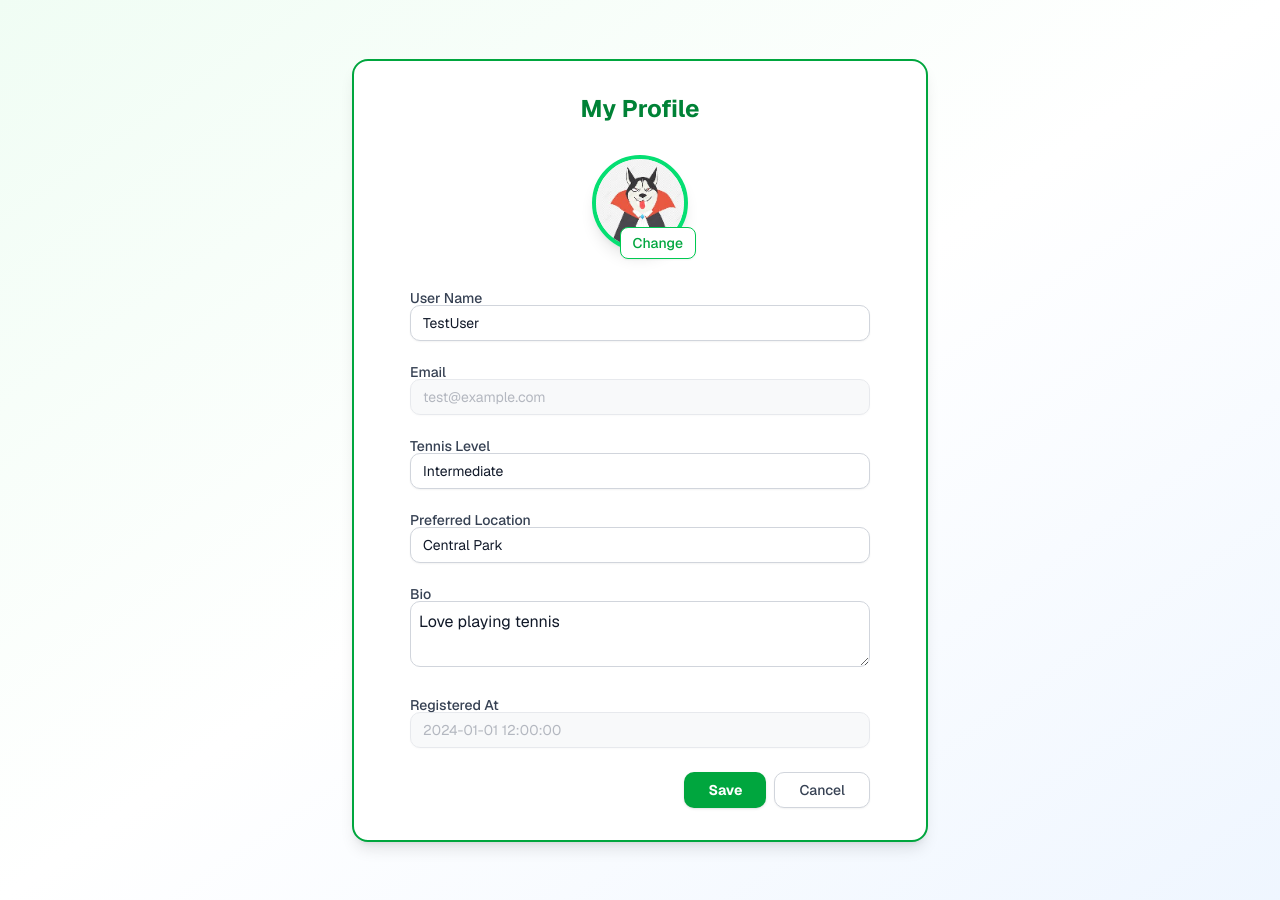
ProfilePage › Save Functionality › should show loading state during save
This screenshot has width=1280, height=900.
Expected: the field showing "TestUser" is shown, [410,304,870,340]
Click the button "Save": (725, 790) [684,772,766,808]
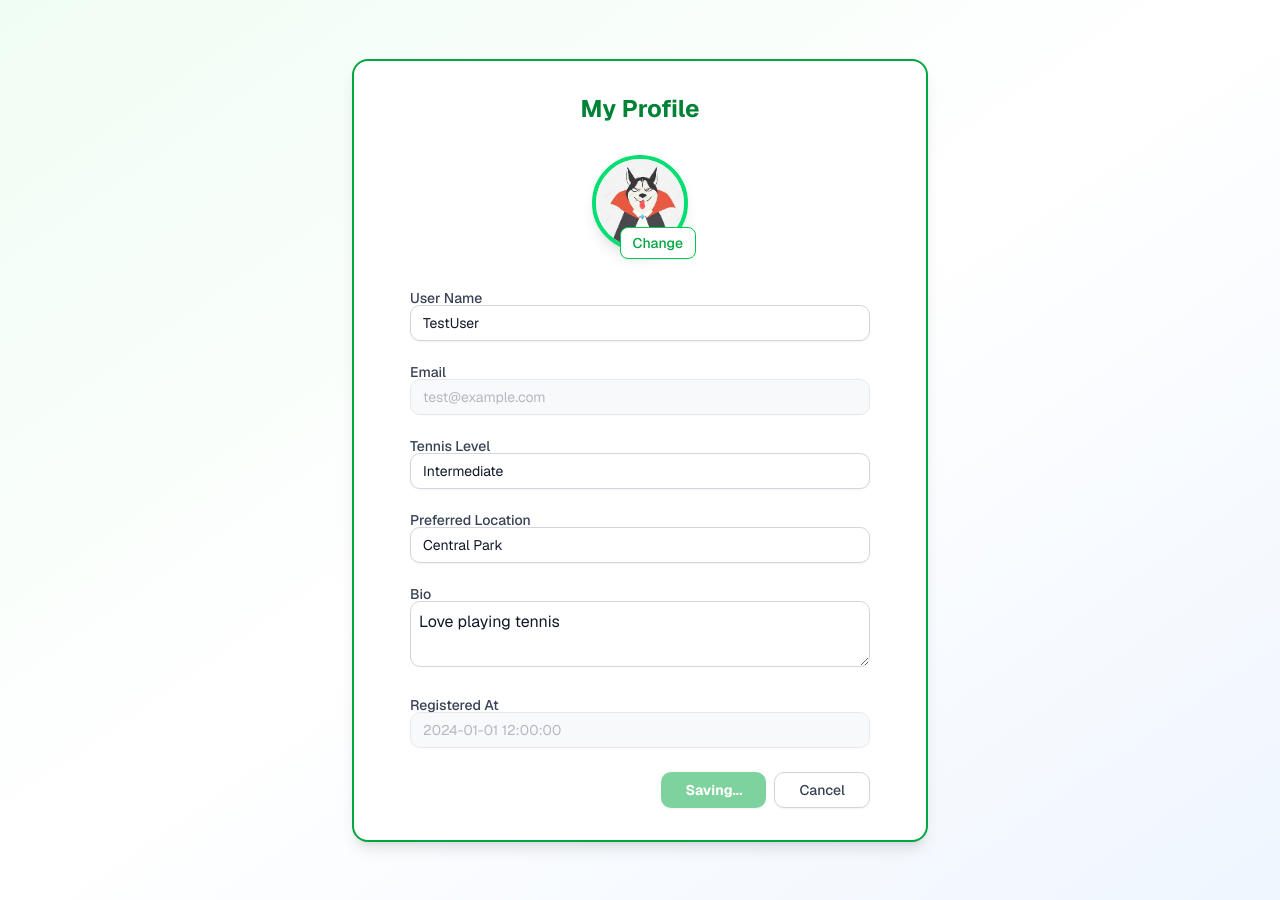
Now the button "Saving..." is disabled, box [662,772,766,808]
